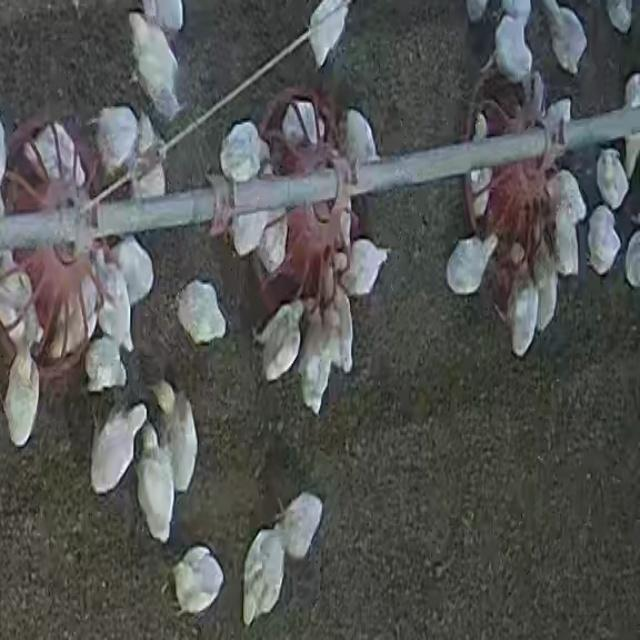chicken: (155, 380, 195, 504), (127, 12, 180, 104), (90, 406, 145, 493), (46, 273, 99, 360), (94, 265, 143, 353), (321, 277, 363, 378), (254, 298, 303, 383), (135, 421, 170, 539), (540, 0, 595, 73), (0, 257, 40, 354), (0, 354, 42, 441), (441, 234, 495, 300), (172, 543, 220, 617), (241, 530, 279, 623), (508, 266, 546, 355), (176, 281, 223, 351), (274, 494, 322, 562), (299, 301, 327, 416), (94, 99, 137, 173), (28, 127, 79, 188), (133, 117, 166, 203), (332, 107, 380, 166), (484, 22, 532, 81), (304, 0, 347, 65), (217, 127, 266, 184), (462, 117, 491, 212), (533, 244, 563, 335), (342, 240, 392, 290), (83, 337, 128, 392), (115, 235, 154, 298), (223, 200, 265, 255), (594, 150, 632, 209), (282, 99, 325, 150), (590, 208, 622, 276), (622, 64, 640, 177), (553, 203, 579, 279), (262, 208, 287, 271), (555, 170, 587, 214)
